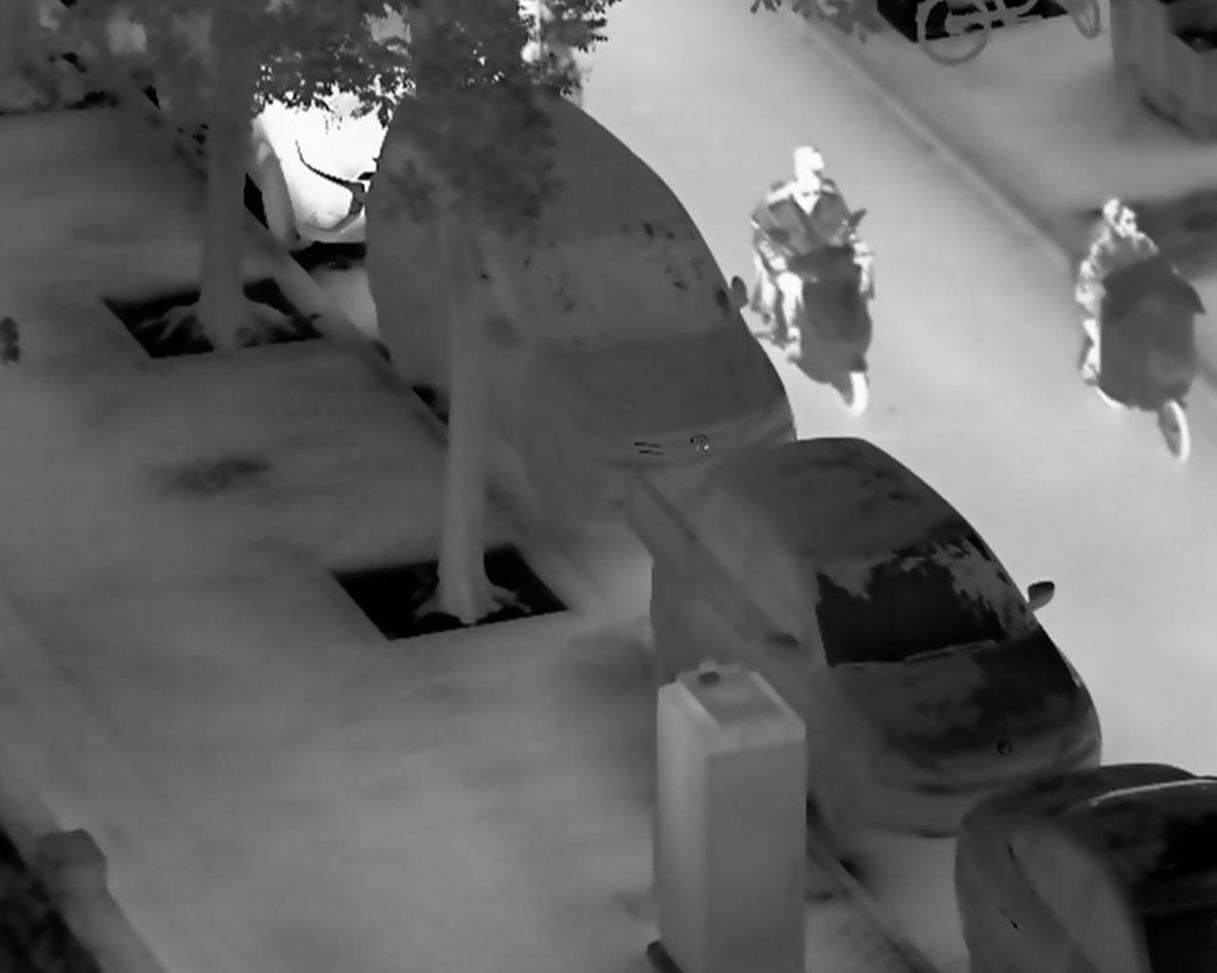person: (750, 170, 871, 353), (1075, 201, 1171, 383)
